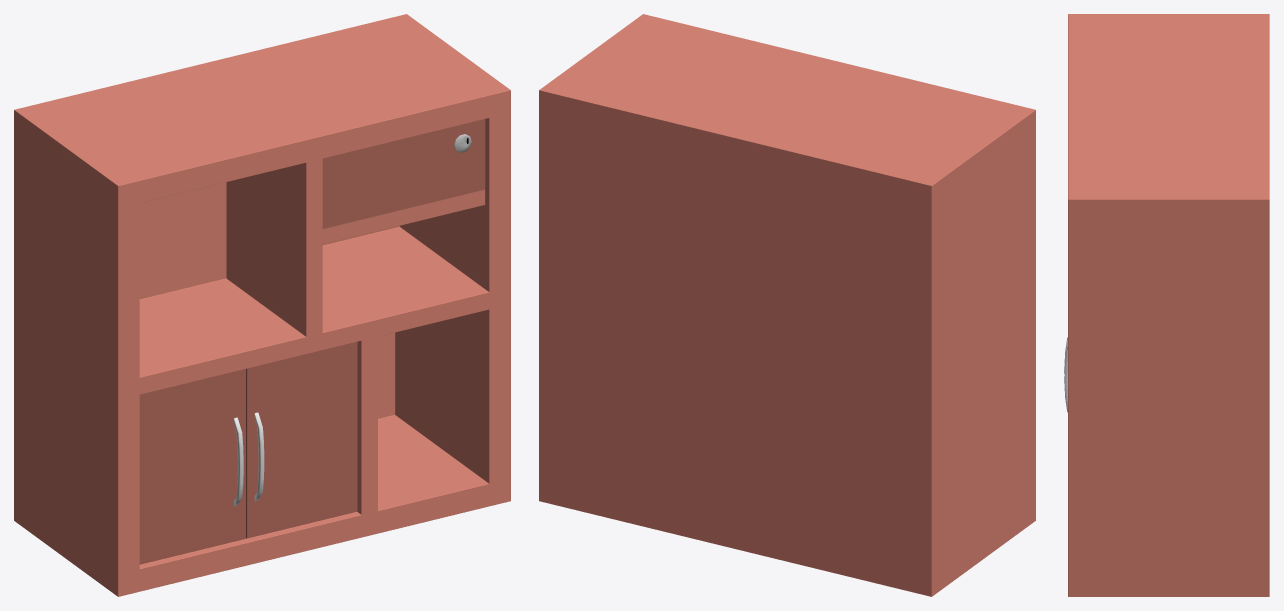
The model's file is CupBoard.fbx.
3 renders of one model, left to right at view 1: azimuth 30°, elevation 25°; view 2: azimuth 150°, elevation 25°; view 3: azimuth 270°, elevation 25°, orthographic. The views are drawn at different scales.
Visible parts, largest first — view 1: Cube.006; view 2: Cube.006; view 3: Cube.006.
Boxes of the visible parts, box(x1,y1,x2,y2) form: Cube.006: box(14, 14, 510, 596); Cube.006: box(539, 14, 1035, 596); Cube.006: box(1064, 14, 1269, 596).
Size of the model in its own units: 382 by 382 by 179.
